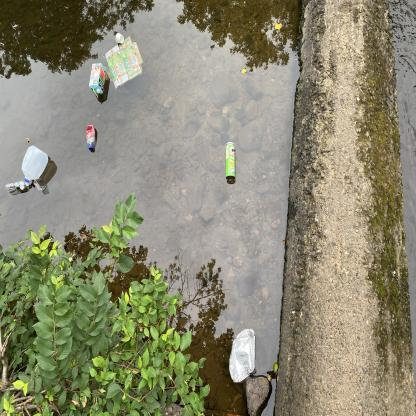trash: (102, 29, 146, 91), (223, 321, 264, 386), (22, 141, 51, 188), (87, 61, 115, 100), (223, 139, 238, 185), (2, 178, 35, 198), (84, 119, 100, 154)
